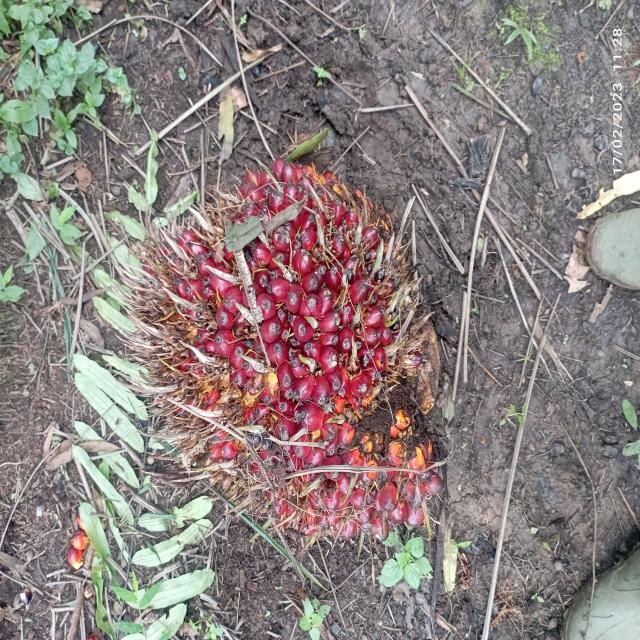fraksi 3: (108, 142, 468, 547)
